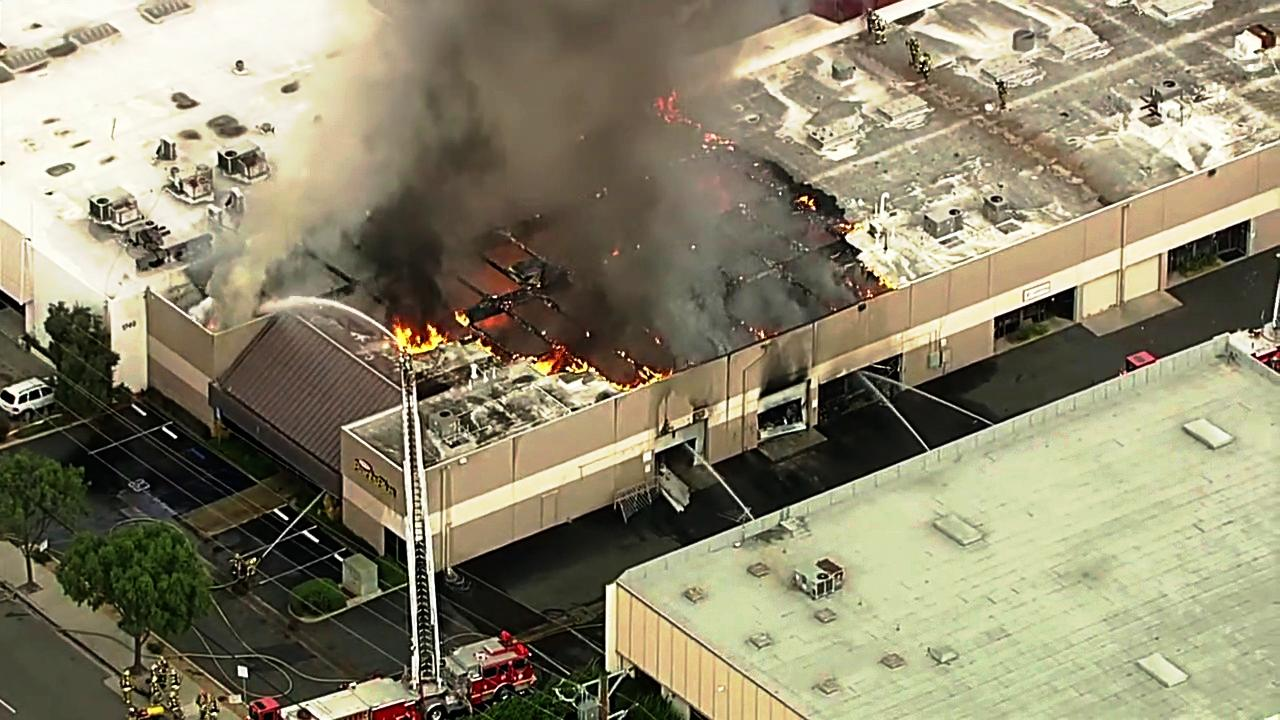smoke: (422, 0, 679, 215)
